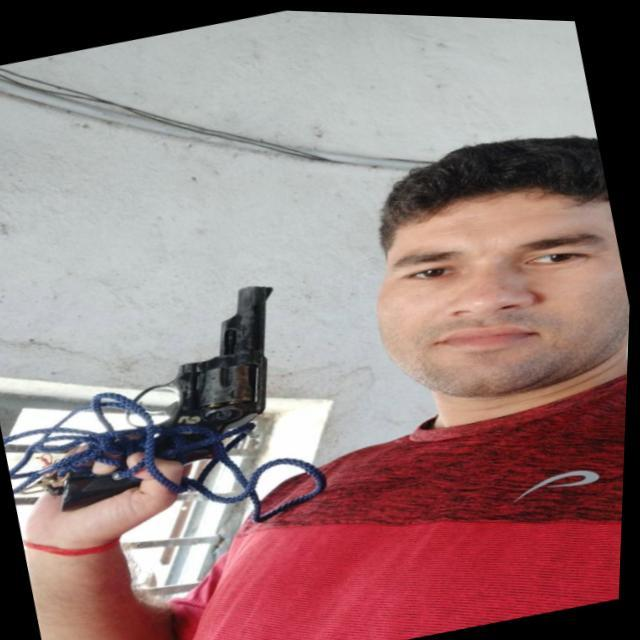weapon: (4, 266, 328, 528)
